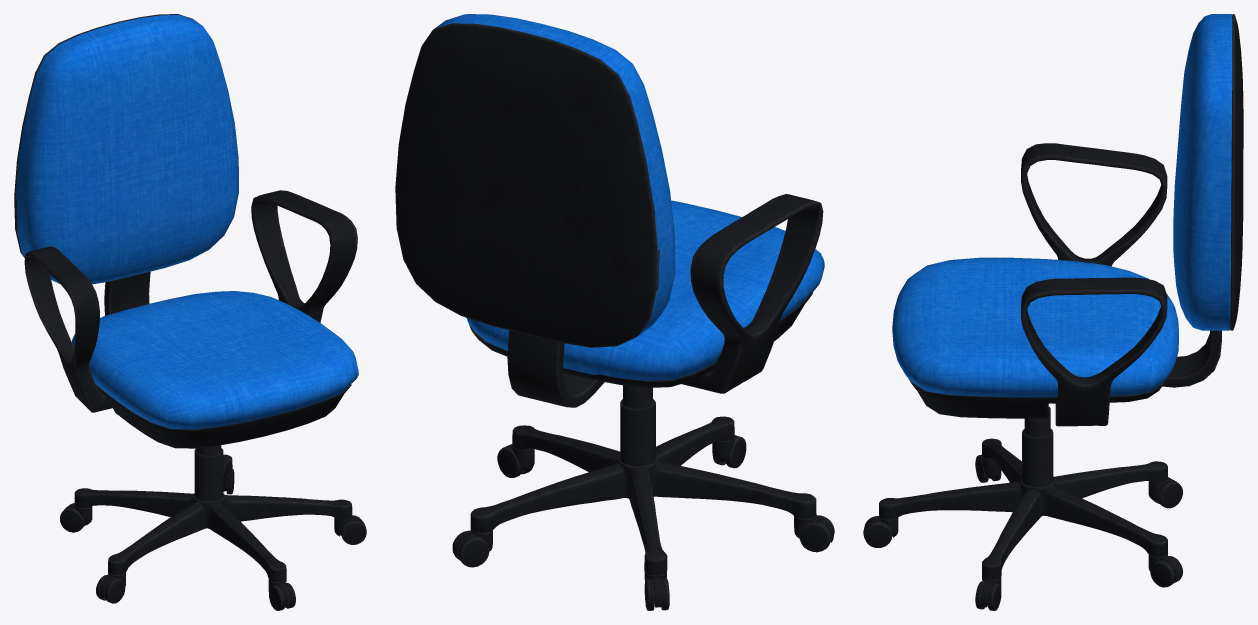
The model's file is chair-transformed.glb.
3 renders of one model, left to right at view 1: azimuth 30°, elevation 25°; view 2: azimuth 150°, elevation 25°; view 3: azimuth 270°, elevation 25°, orthographic. The views are drawn at different scales.
Parts seen in each view (by area): view 1: Chair_; view 2: Chair_; view 3: Chair_.
Boxes of the visible parts, box(x1,y1,x2,y2) form: Chair_: box(14, 14, 366, 610); Chair_: box(395, 14, 834, 610); Chair_: box(863, 14, 1243, 610).
Bounding box in the file's own units: 0.6783 × 1.06 × 0.7219.
1 material, 1 textured.
